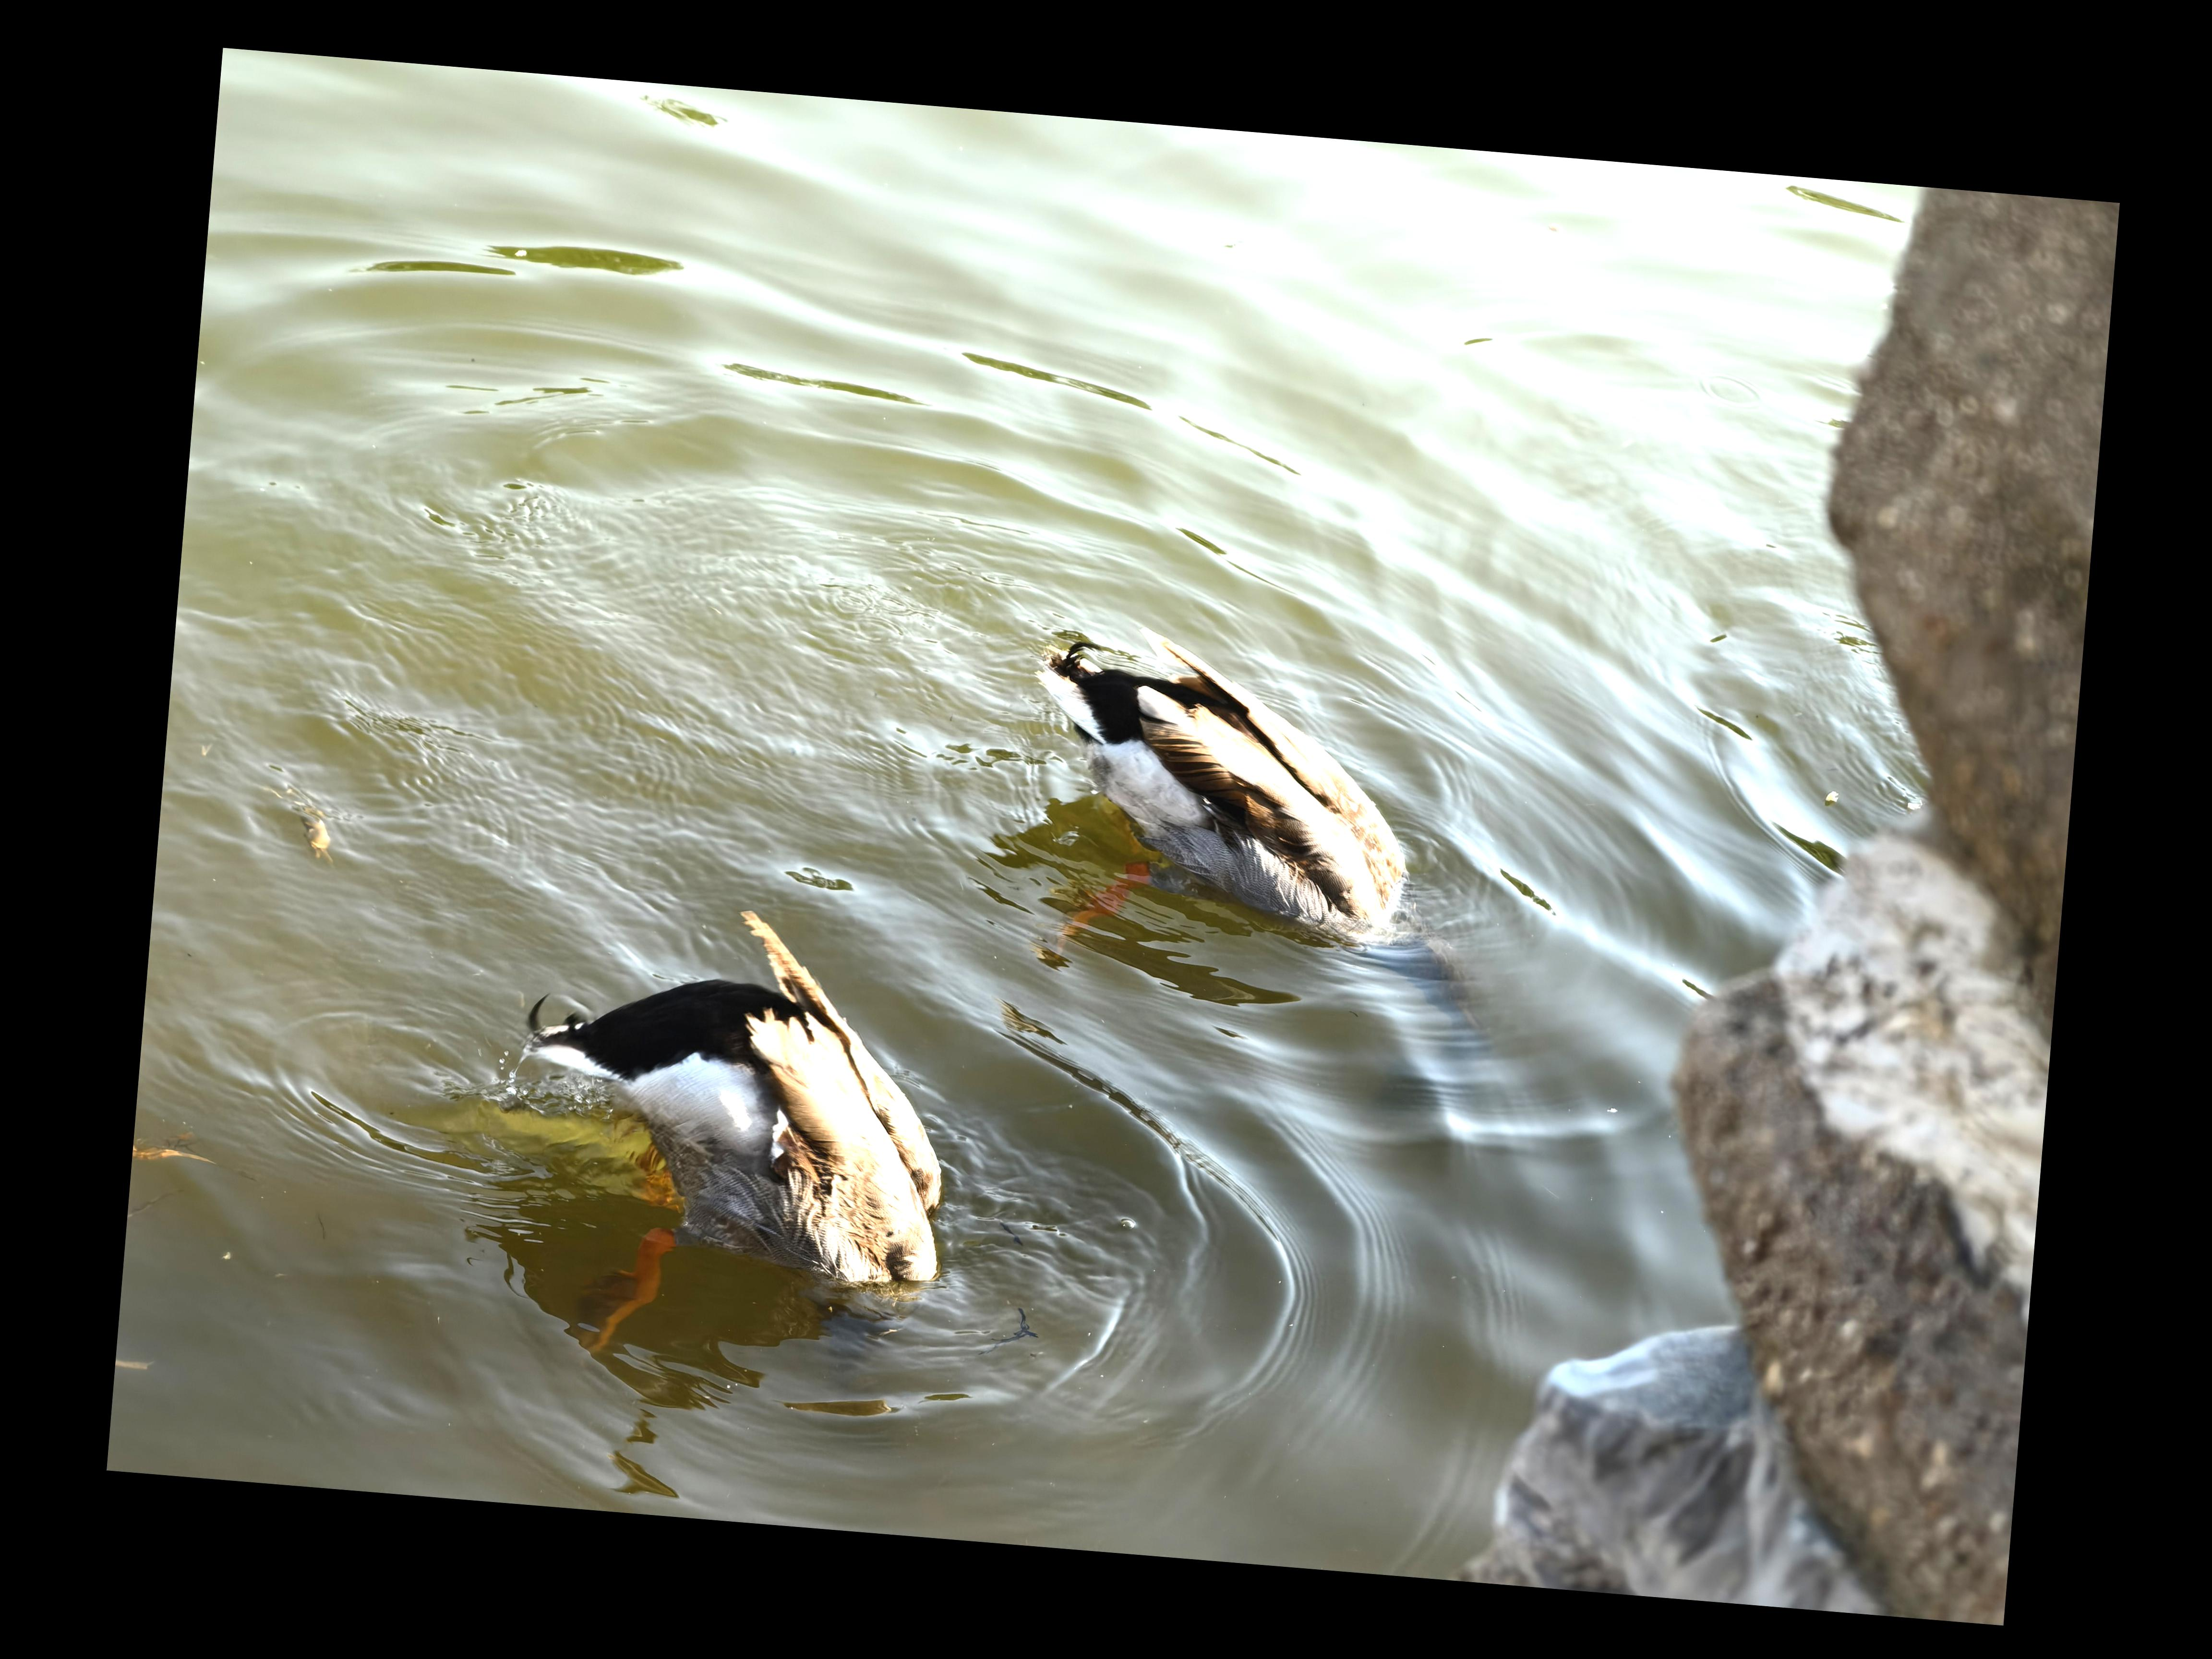duck: (437, 859, 1043, 1378), (981, 592, 1456, 953)
